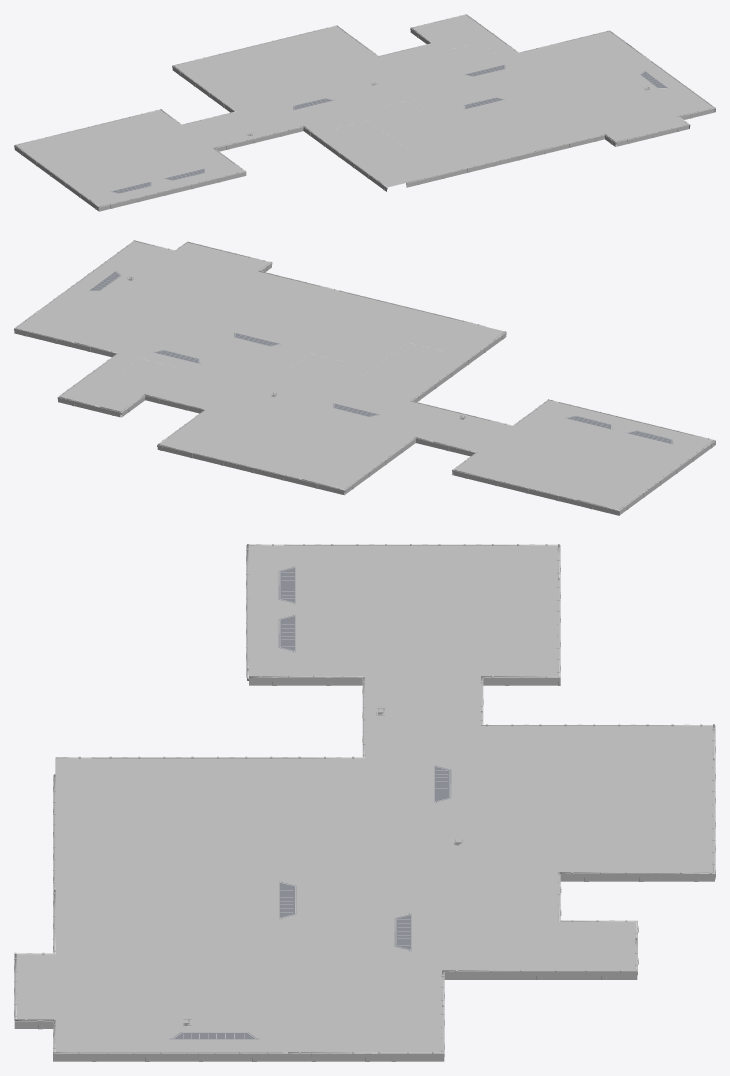
File: hengbindibiao02.fbx
3 views of the same model, one above another, from view 1: azimuth 30°, elevation 25°; view 2: azimuth 150°, elevation 25°; view 3: azimuth 270°, elevation 25° (orthographic). The views are drawn at different scales.
Visible parts, largest first — view 1: hengbing_1.016, hengbing_1.081, hengbing_1.010, hengbing_1.057, hengbing_1.093, hengbing_1.094, hengbing_1.085, hengbing_1.091, hengbing_1.084, hengbing_1.043, hengbing_1.092, hengbing_1.095 (+9 smaller); view 2: hengbing_1.016, hengbing_1.081, hengbing_1.062, hengbing_1.010, hengbing_1.064, hengbing_1.085, hengbing_1.093, hengbing_1.094, hengbing_1.091, hengbing_1.092, hengbing_1.084, hengbing_1.095 (+7 smaller); view 3: hengbing_1.016, hengbing_1.081, hengbing_1.048, hengbing_1.010, hengbing_1.091, hengbing_1.093, hengbing_1.094, hengbing_1.095, hengbing_1.084, hengbing_1.092, hengbing_1.085, hengbing_1.072 (+5 smaller).
Part boxes in pixels (bbox=[...]): hengbing_1.016: bbox=[185, 19, 703, 182]; hengbing_1.081: bbox=[27, 114, 248, 206]; hengbing_1.010: bbox=[360, 99, 455, 163]; hengbing_1.057: bbox=[98, 170, 246, 211]; hengbing_1.093: bbox=[312, 105, 368, 129]; hengbing_1.094: bbox=[389, 55, 445, 79]; hengbing_1.085: bbox=[629, 89, 685, 113]; hengbing_1.091: bbox=[375, 151, 431, 175]; hengbing_1.084: bbox=[333, 120, 389, 144]; hengbing_1.043: bbox=[406, 151, 534, 187]; hengbing_1.092: bbox=[354, 136, 410, 159]; hengbing_1.095: bbox=[444, 42, 499, 66]; hengbing_1.016: bbox=[28, 242, 492, 484]; hengbing_1.081: bbox=[437, 400, 712, 504]; hengbing_1.062: bbox=[157, 444, 345, 495]; hengbing_1.010: bbox=[310, 318, 417, 391]; hengbing_1.064: bbox=[453, 469, 619, 515]; hengbing_1.085: bbox=[120, 255, 183, 282]; hengbing_1.093: bbox=[337, 377, 401, 404]; hengbing_1.094: bbox=[178, 373, 241, 400]; hengbing_1.091: bbox=[408, 325, 472, 352]; hengbing_1.092: bbox=[385, 342, 448, 369]; hengbing_1.084: bbox=[361, 360, 424, 387]; hengbing_1.095: bbox=[116, 358, 180, 385]; hengbing_1.016: bbox=[17, 725, 712, 1051]; hengbing_1.081: bbox=[249, 545, 557, 709]; hengbing_1.048: bbox=[53, 1051, 378, 1061]; hengbing_1.010: bbox=[93, 818, 403, 828]; hengbing_1.091: bbox=[94, 774, 171, 807]; hengbing_1.093: bbox=[326, 774, 403, 807]; hengbing_1.094: bbox=[442, 872, 519, 905]; hengbing_1.095: bbox=[442, 921, 519, 954]; hengbing_1.084: bbox=[249, 774, 326, 807]; hengbing_1.092: bbox=[171, 774, 248, 807]; hengbing_1.085: bbox=[94, 1003, 171, 1035]; hengbing_1.072: bbox=[210, 1006, 403, 1018].
Bounding box in the file's own units: 31147 × 327 × 18148.
